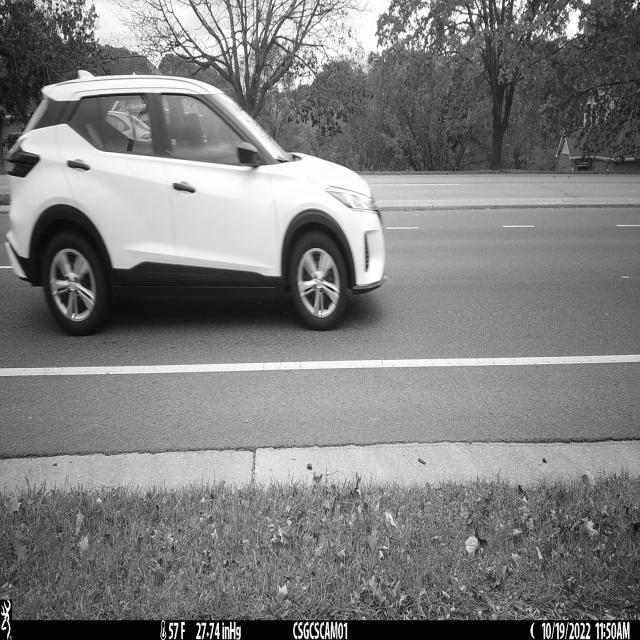SUV: (5, 75, 388, 339)
